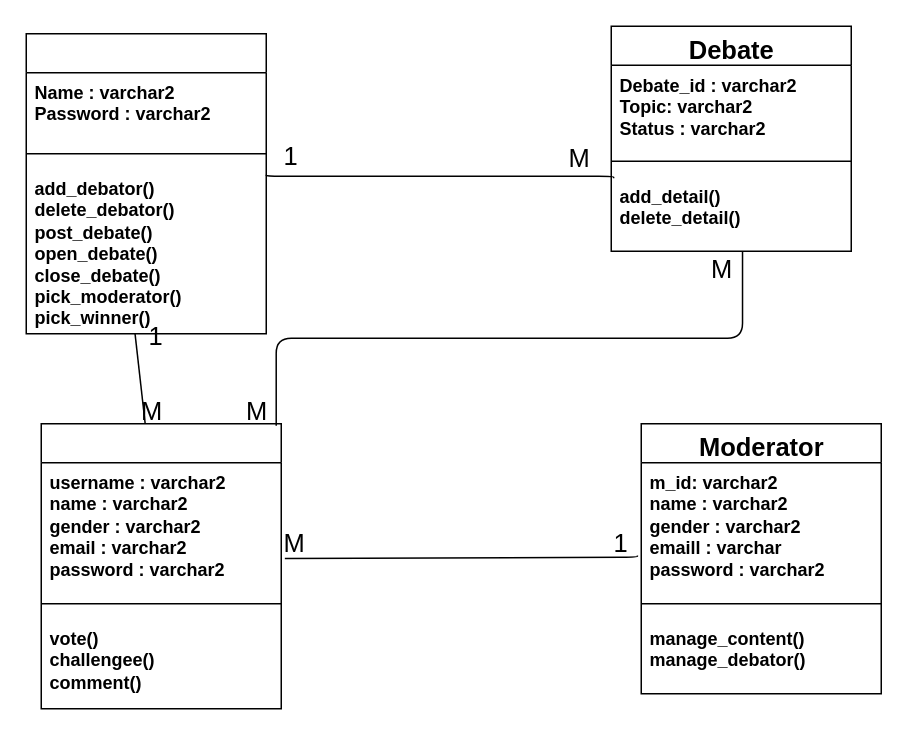
This 908x740 diagram has some shape labels left out. Each missing label, with the box of its shape:
Admin: (25, 32, 266, 334)
Debator: (40, 422, 281, 709)
